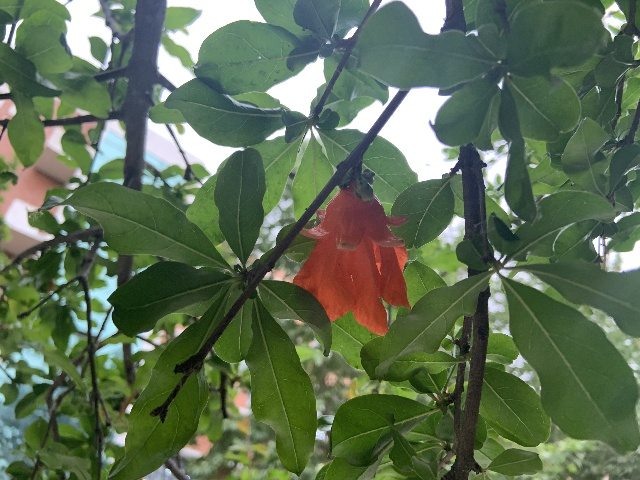flower: (292, 181, 410, 334)
